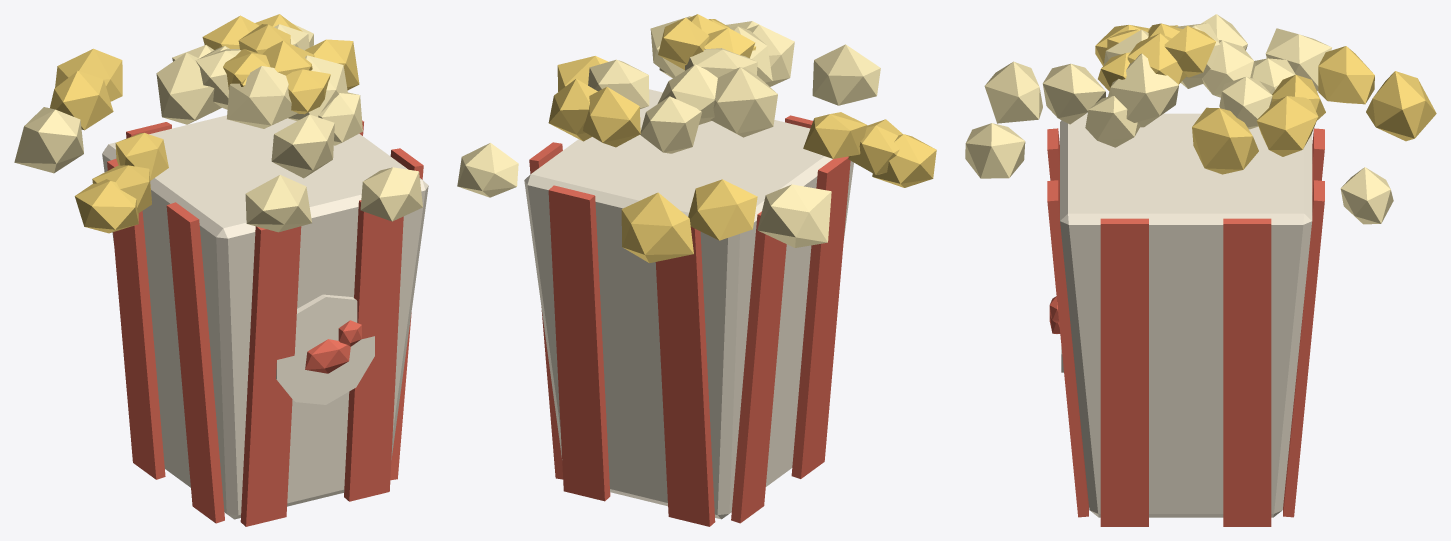
Rendered from popcorn_tub.glb.
3 views of the same model, side by side, from view 1: azimuth 30°, elevation 25°; view 2: azimuth 150°, elevation 25°; view 3: azimuth 270°, elevation 25° (orthographic). The views are drawn at different scales.
Visible parts, largest first — view 1: popcorn_tub; view 2: popcorn_tub; view 3: popcorn_tub.
Part boxes in pixels (x1=…): popcorn_tub: x1=14, y1=14, x2=428, y2=526; popcorn_tub: x1=457, y1=14, x2=936, y2=526; popcorn_tub: x1=965, y1=14, x2=1436, y2=526.
Bounding box in the file's own units: 0.2353 × 0.2884 × 0.2694.
